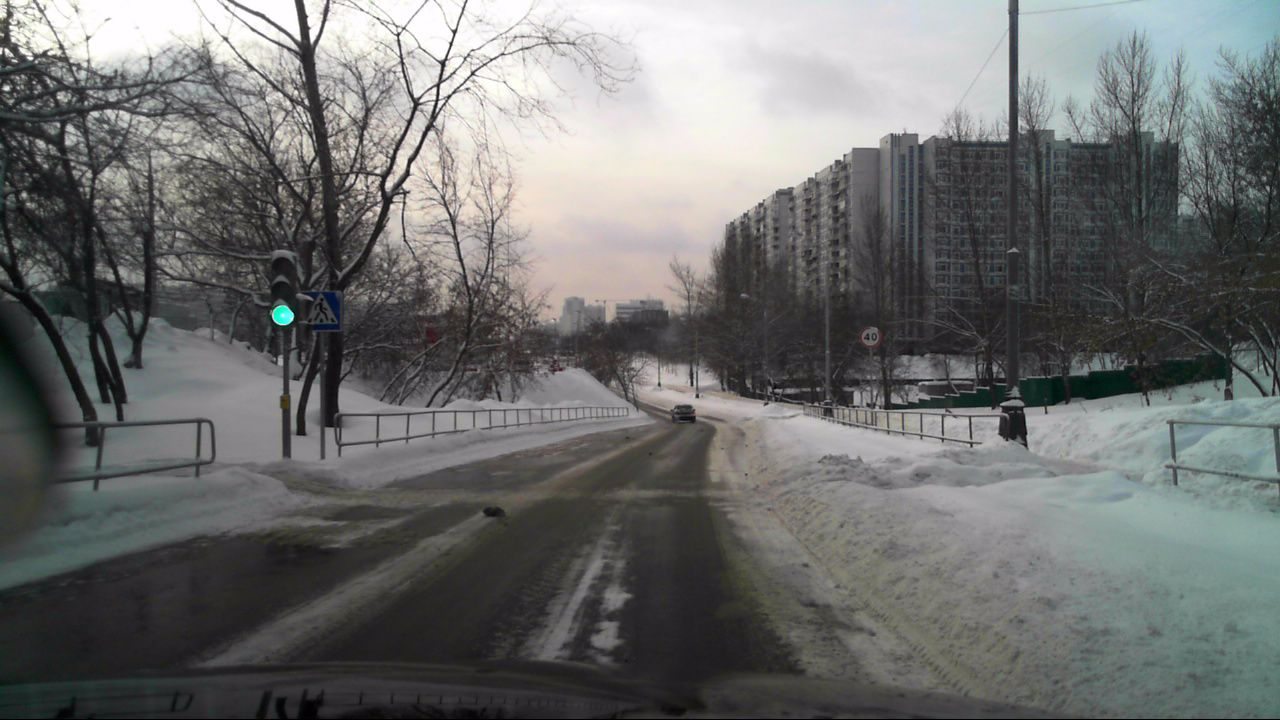speed_warning_40: (860, 326, 881, 348)
